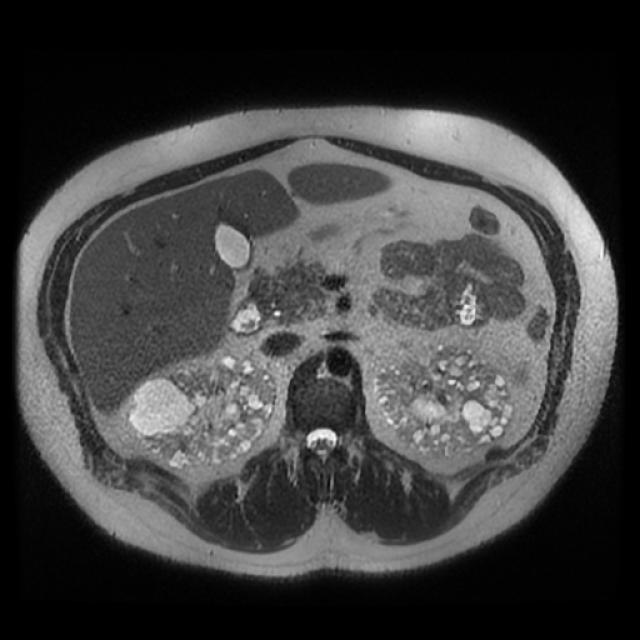sag: (128, 355, 276, 469)
sol: (372, 345, 514, 455)
